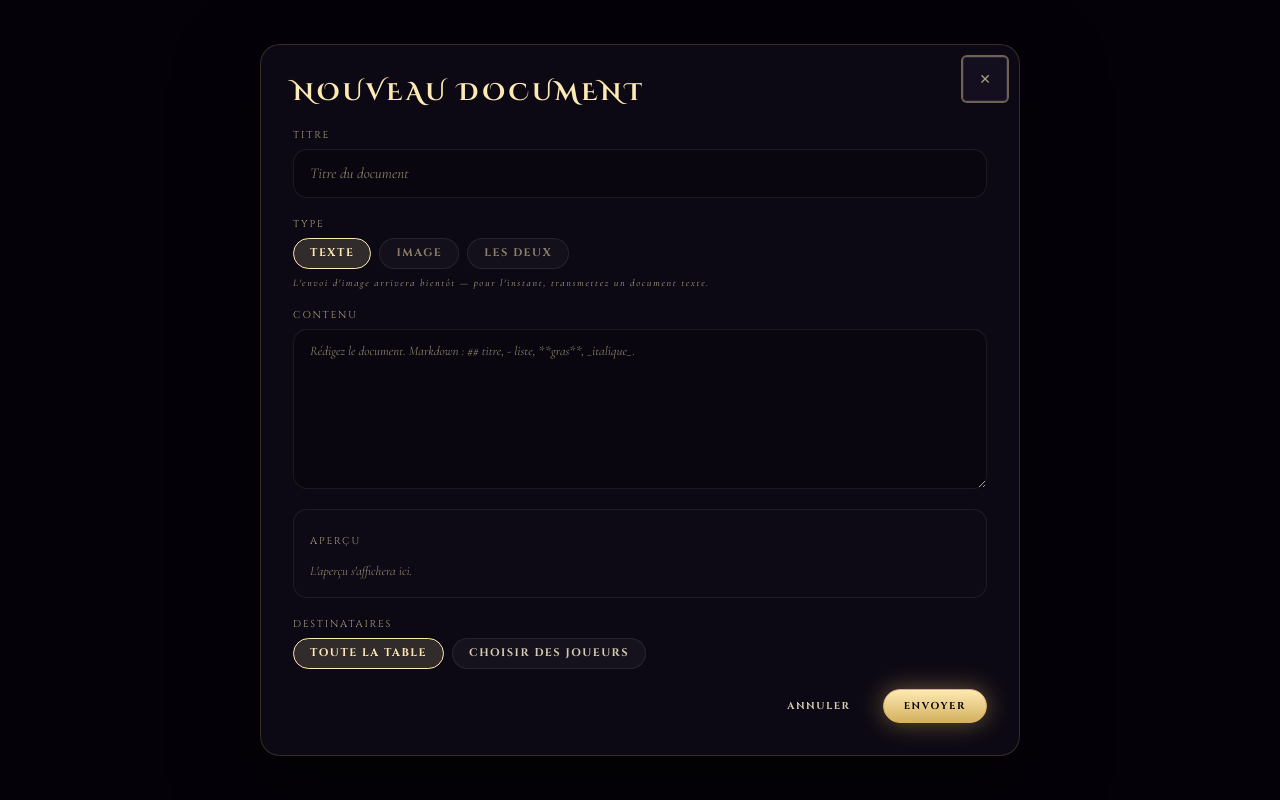
HandoutEditorModal — création › bloque l’envoi sans titre et affiche l’erreur
This screenshot has width=1280, height=800.
What coordinates should you click on to do the following:
click the button "Envoyer"
I would click on:
 (935, 706)
Its box is [883,689,987,723].
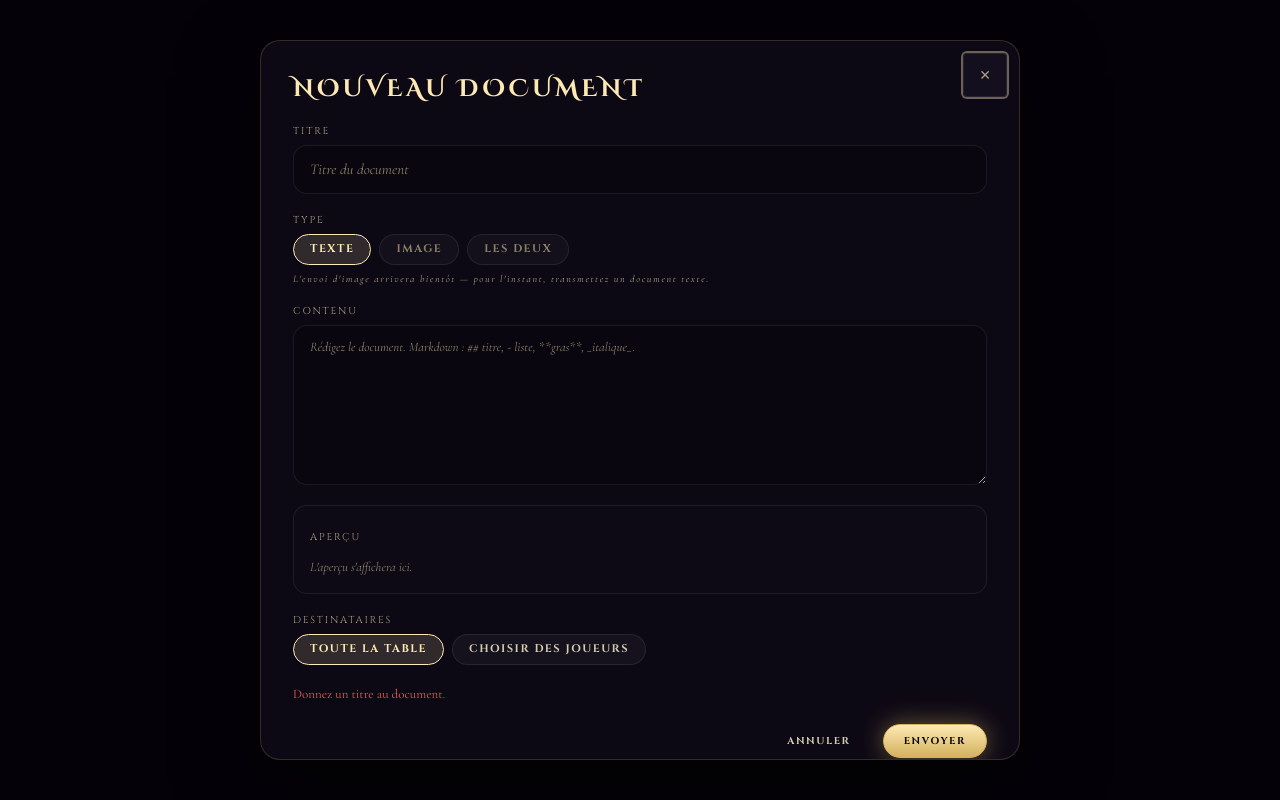
Now the text "Donnez un titre au document." is shown, box [293,686,445,702]
